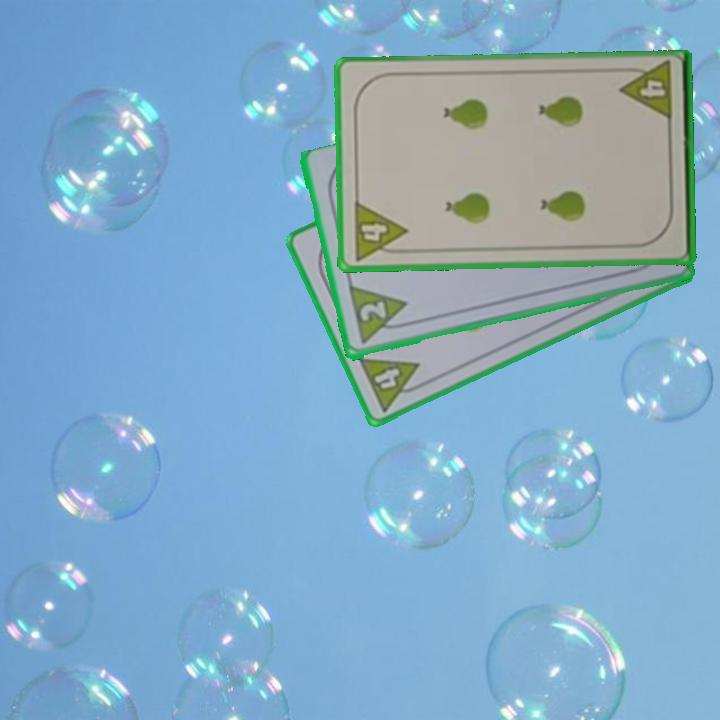2p: (355, 298, 389, 325)
4p: (355, 354, 430, 415), (349, 198, 410, 263), (617, 59, 675, 124)
